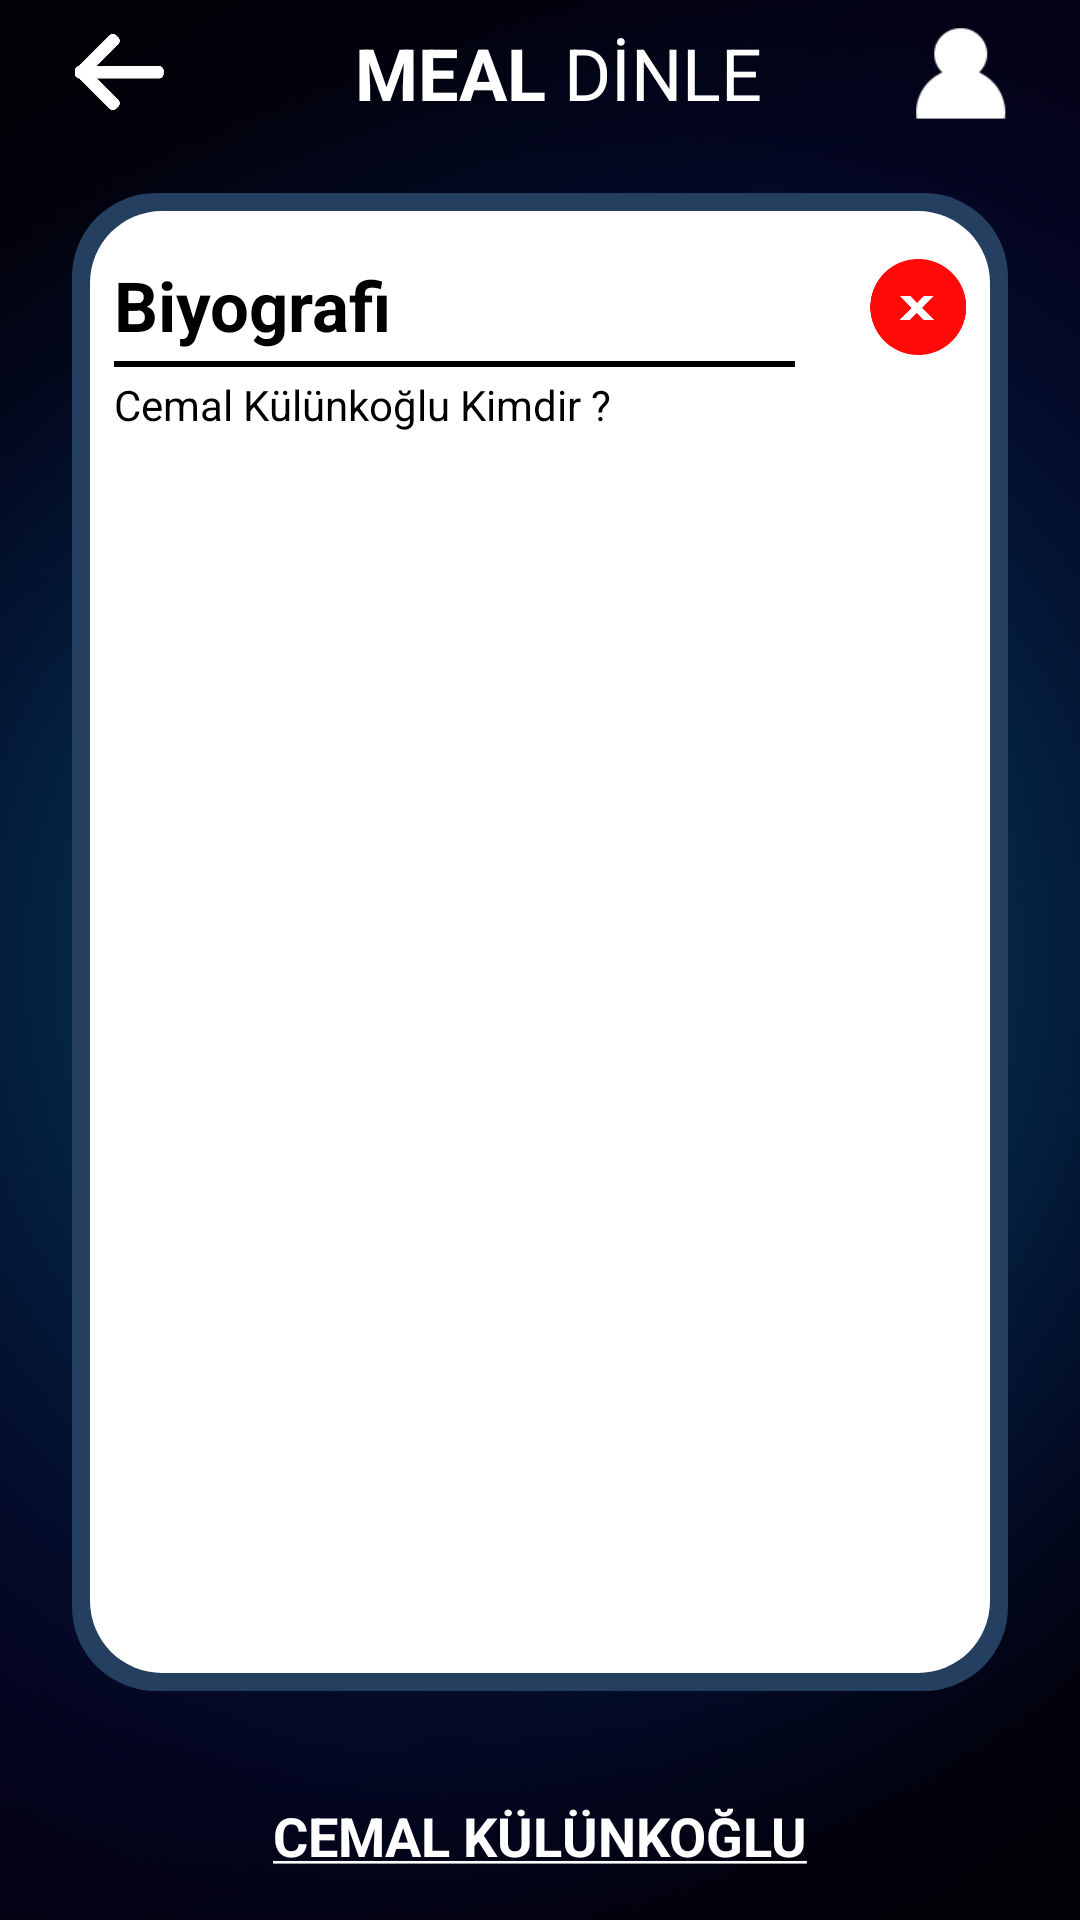

Icon bounding boxes for this 1080 x 1920 phone screenshot, format [left=x1, top=y1, right=x2, bottom=y2]:
back: [left=75, top=34, right=164, bottom=110]
close: [left=870, top=259, right=966, bottom=355]
user: [left=916, top=28, right=1006, bottom=119]
